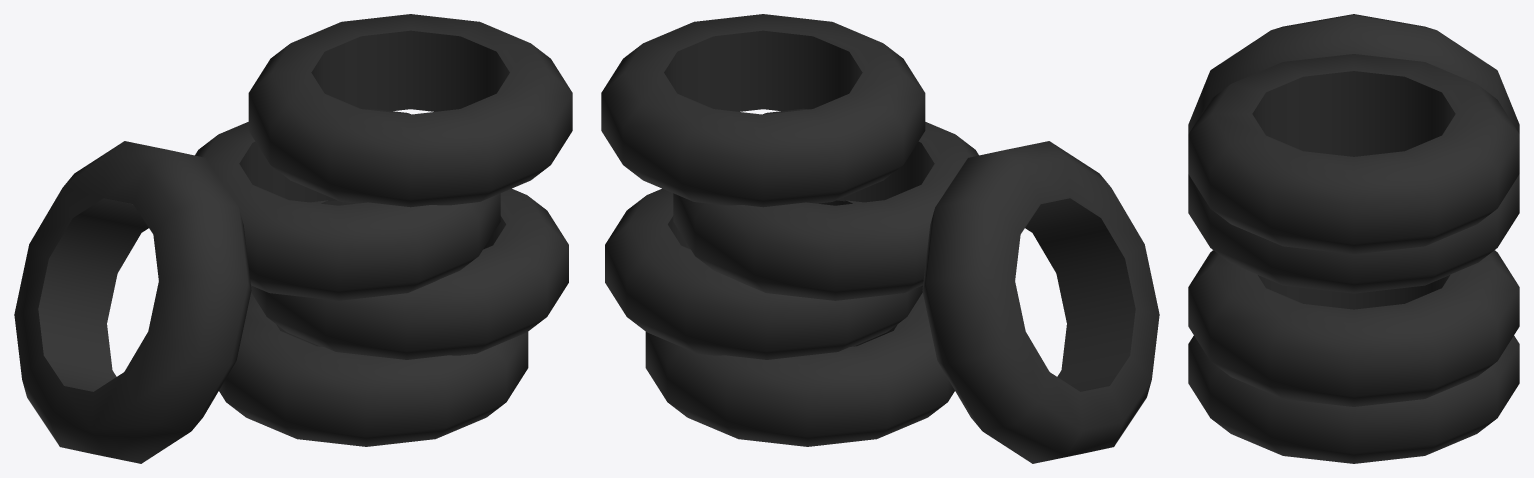
The model's file is rubbers.fbx.
3 views of the same model, side by side, from view 1: azimuth 30°, elevation 25°; view 2: azimuth 150°, elevation 25°; view 3: azimuth 270°, elevation 25° (orthographic). The views are drawn at different scales.
Visible parts, largest first — view 1: rubbers; view 2: rubbers; view 3: rubbers.
Part boxes in pixels (x1,y1,x2,y2): rubbers: (14, 14, 572, 463); rubbers: (601, 14, 1159, 463); rubbers: (1188, 14, 1519, 463).
Bounding box in the file's own units: 331 × 192 × 185.
